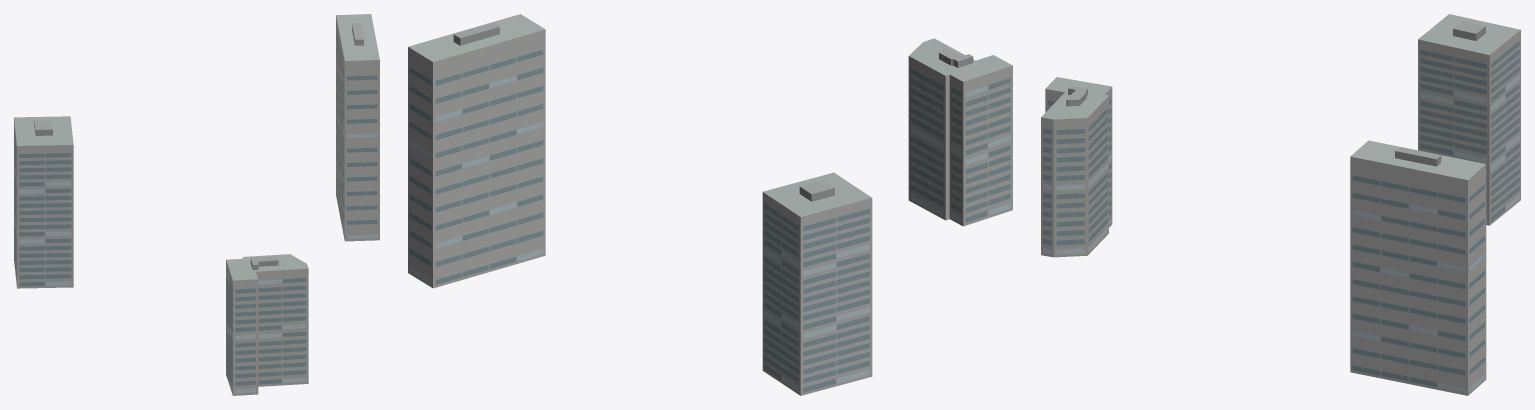
File: apt-a10026734.glb
The picture shows the model from 3 angles, left to right: view 1: azimuth 30°, elevation 25°; view 2: azimuth 150°, elevation 25°; view 3: azimuth 270°, elevation 25°; orthographic projection. The views are drawn at different scales.
Parts seen in each view (by area): view 1: apt-a10026734; view 2: apt-a10026734; view 3: apt-a10026734.
Boxes of the visible parts, x1,y1,x2,y2 form: apt-a10026734: (14,14,379,395); apt-a10026734: (408,14,1012,395); apt-a10026734: (1041,14,1520,395).
Size of the model in its own units: 150 by 74 by 144.
